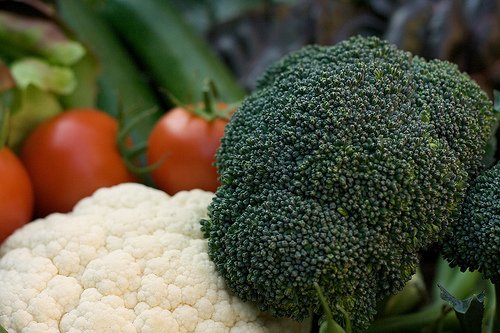cauliflower: (2, 184, 310, 332)
